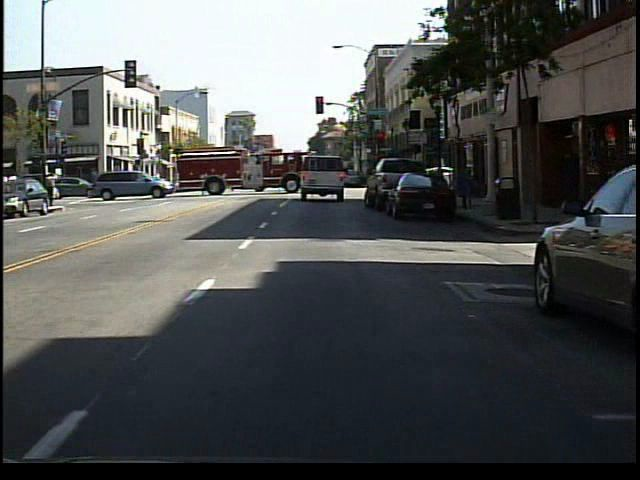person: (43, 170, 60, 209)
